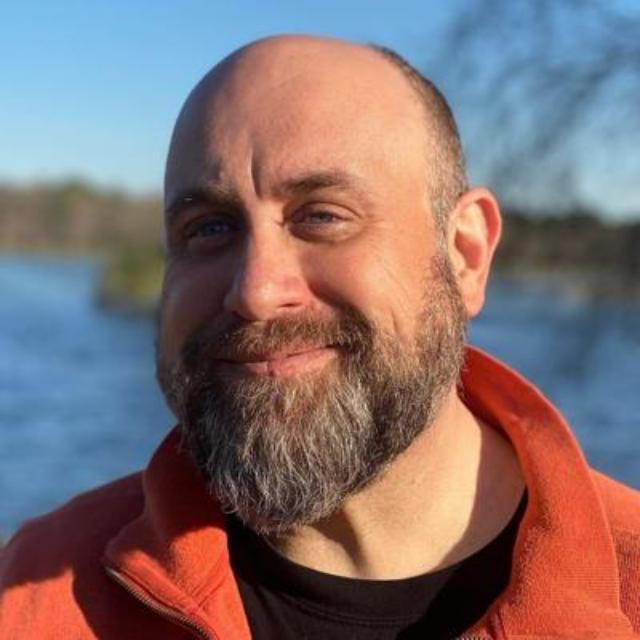frown_line: (244, 154, 268, 202)
masseter: (387, 306, 401, 338)
